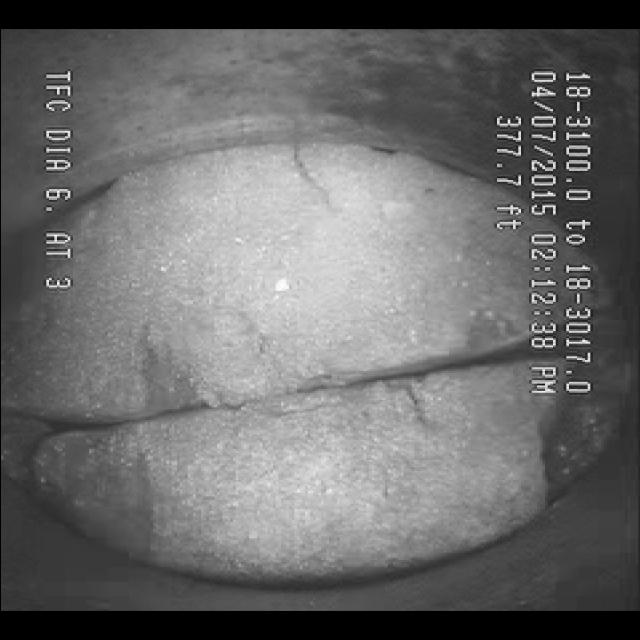Fracture: (63, 326, 513, 484)
